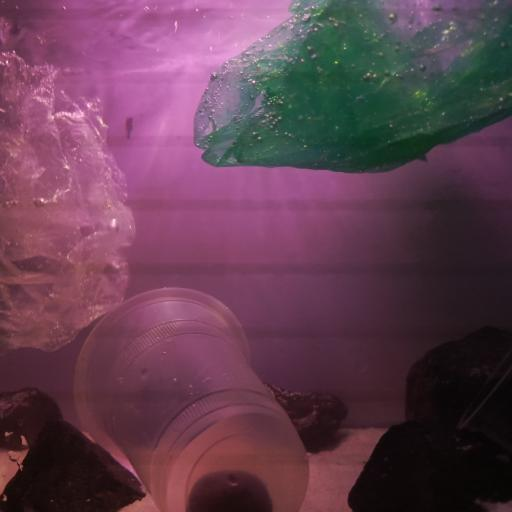plastic_bag: (193, 13, 512, 173), (1, 45, 136, 356)
plastic_cup: (70, 284, 310, 512), (454, 347, 512, 454)
